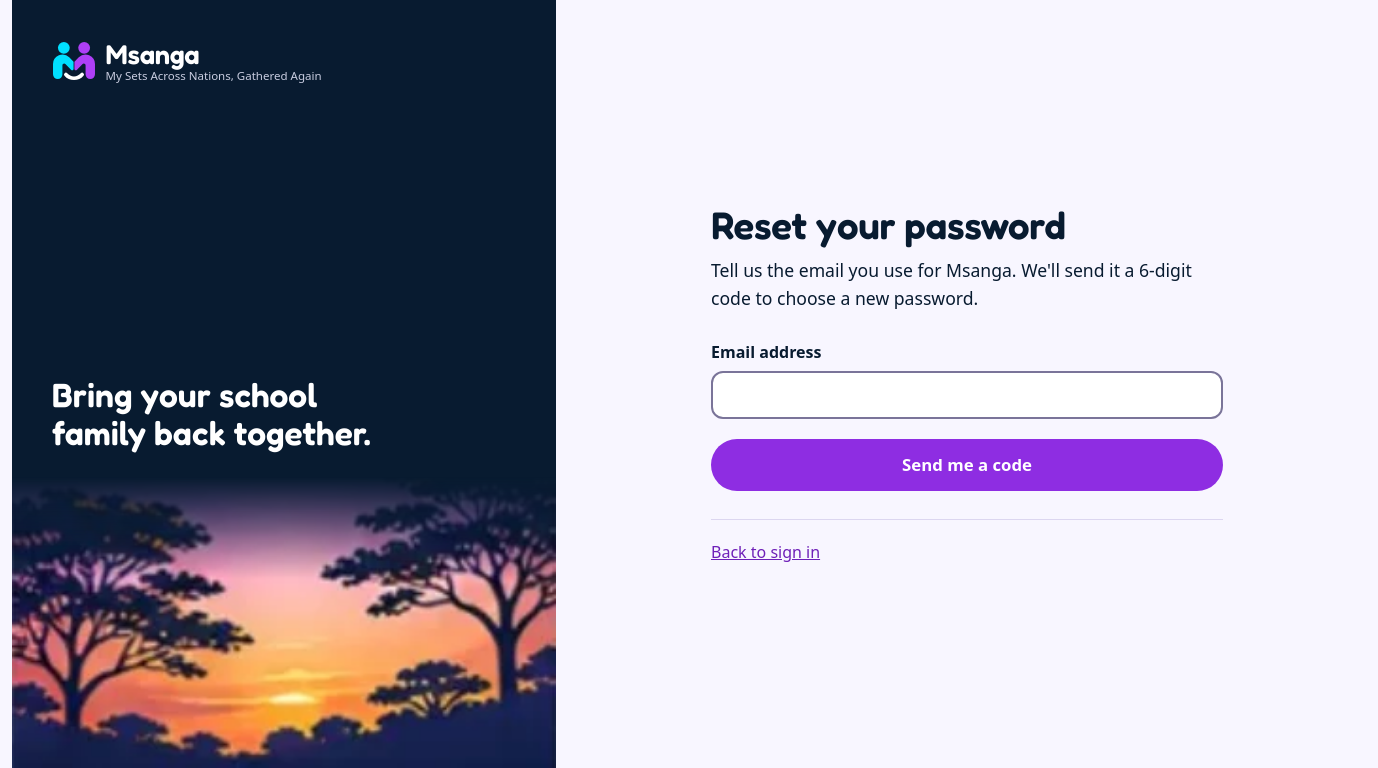
Test: Forgot and reset password with a code (against the pretend API) › sends a new code on request
Expected: the heading "Reset your password" is shown, [711,202,1066,248]
Type "ada@example.com" into the field labelled "Email address" at (967, 395), box [711,371,1223,420]
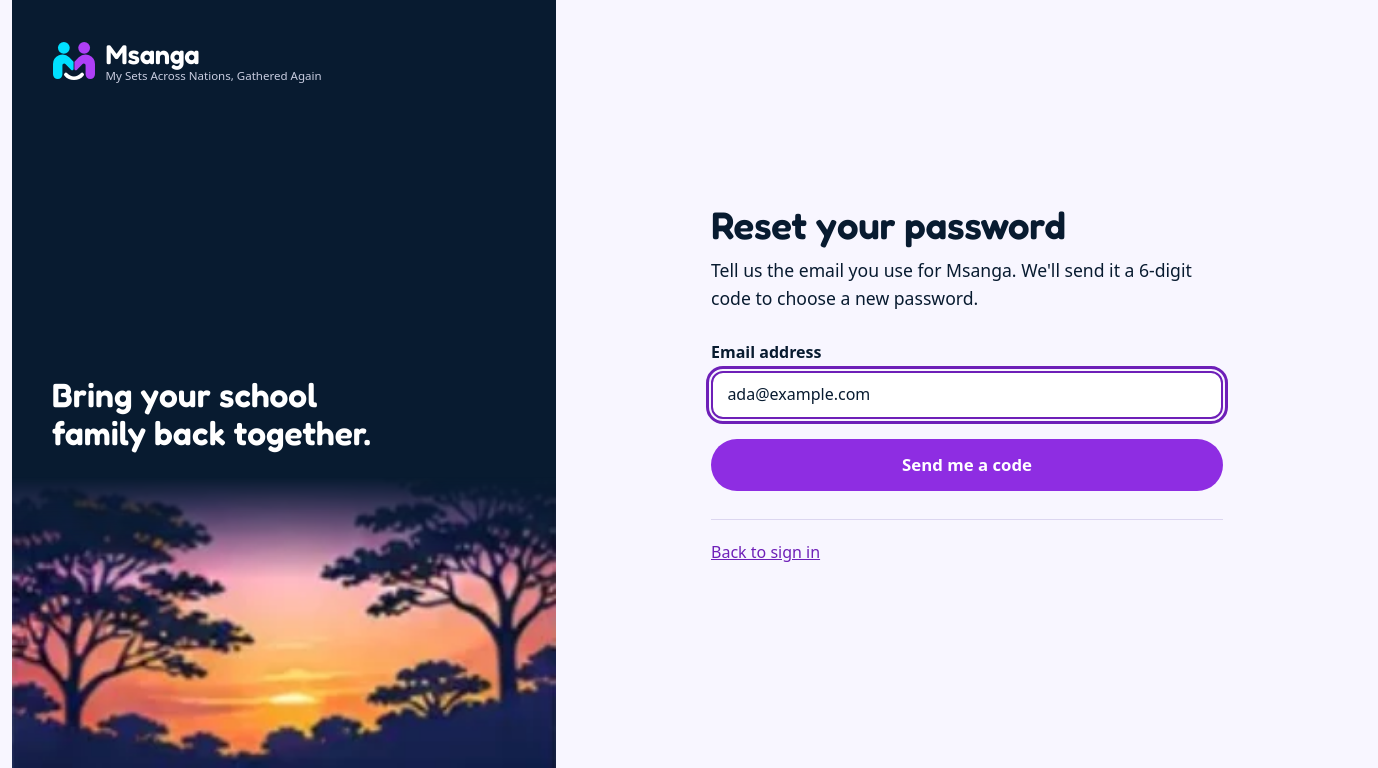
Click the button "Send me a code" at (967, 466), box [711,440,1223,492]
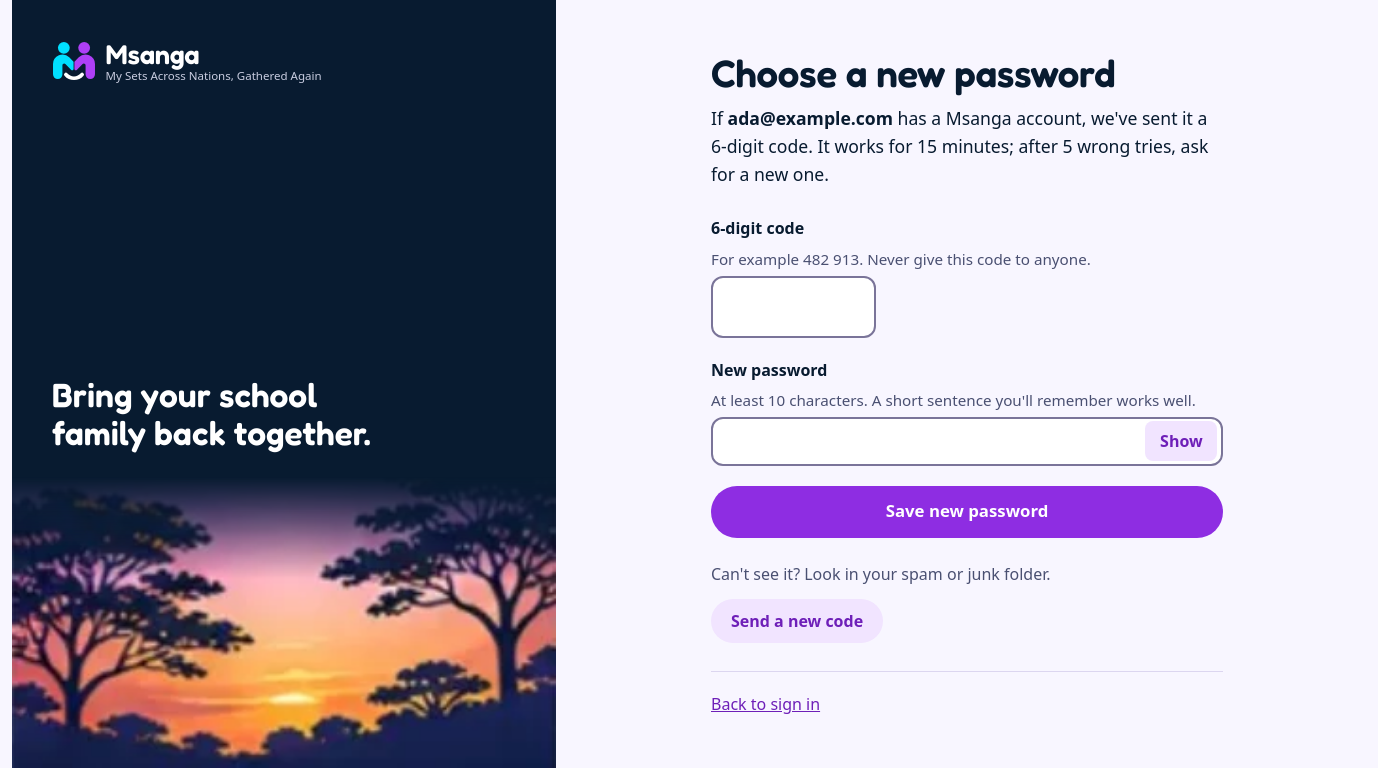
Expected: the heading "Choose a new password" is shown, [711,50,1116,96]
Click the button "Send a new code" at (797, 621), box [711,599,883,643]
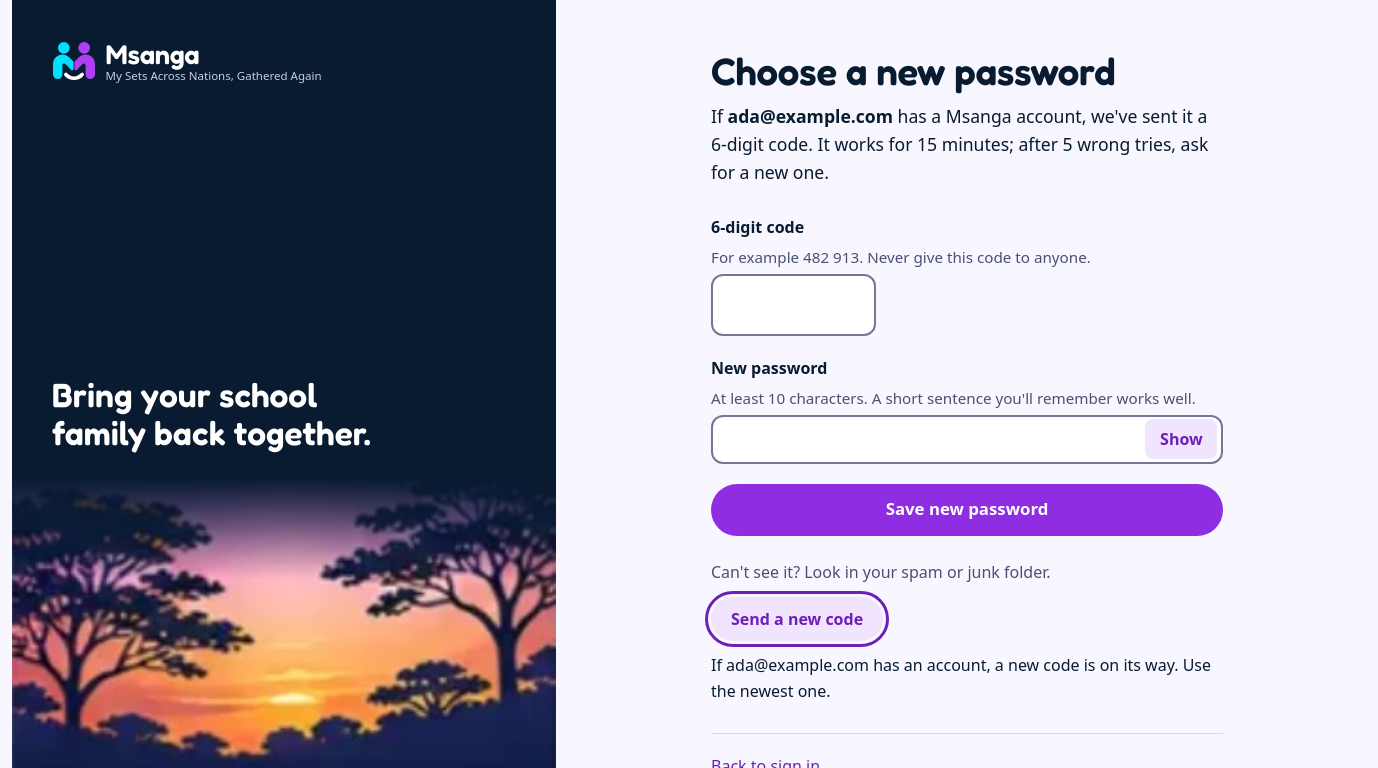
Expected: the text "a new code is on its way" is shown, [711,654,1211,702]
